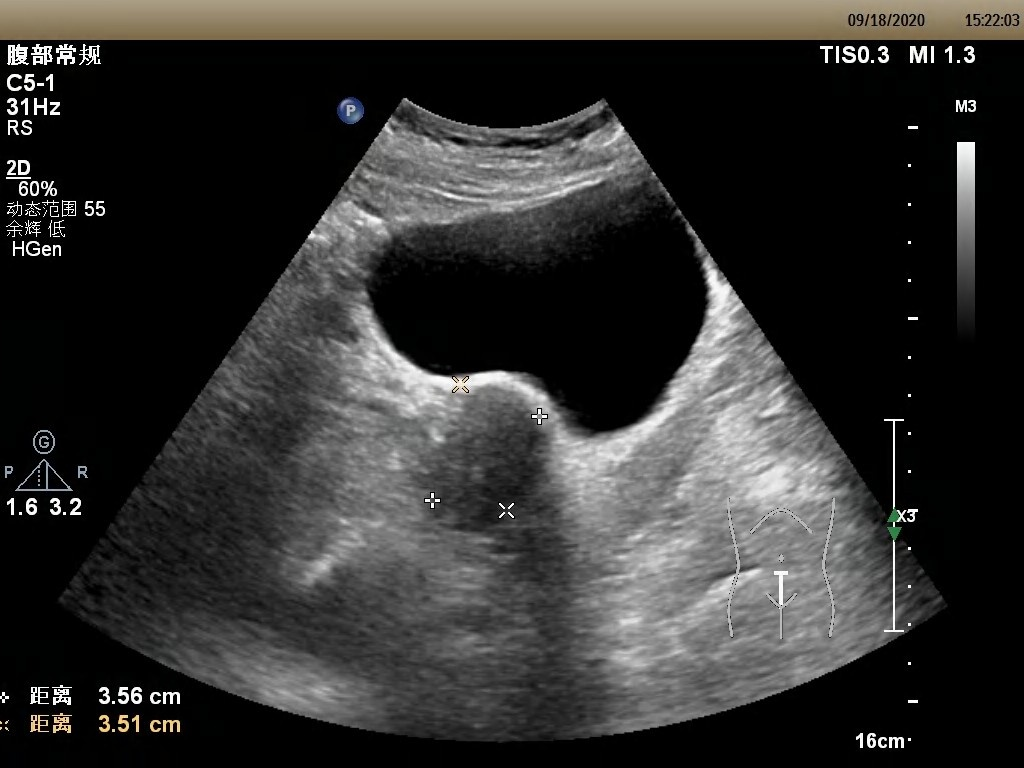肌瘤: (432, 383, 543, 510)
